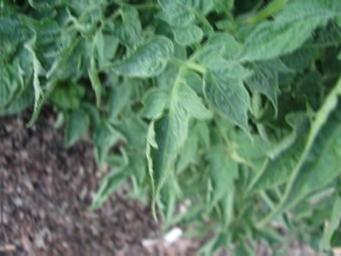Tomato leaf mosaic virus: (139, 78, 205, 209), (232, 2, 334, 63), (193, 57, 260, 143), (94, 33, 174, 82), (169, 25, 203, 44)
